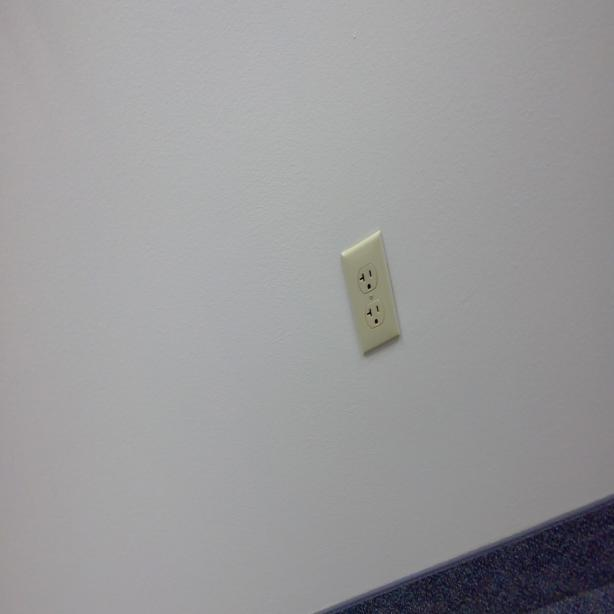typeb: (356, 264, 379, 293), (365, 300, 385, 330)
